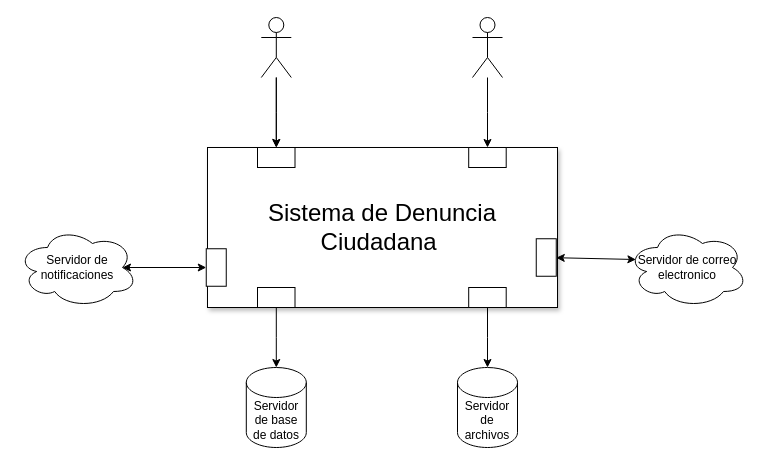
This 765x465 diagram has some shape labels left out. The centre of each missing label's shape, as x and y in pixels:
"Ciudadano" goes at (275,47).
"Empleado" goes at (487,47).
